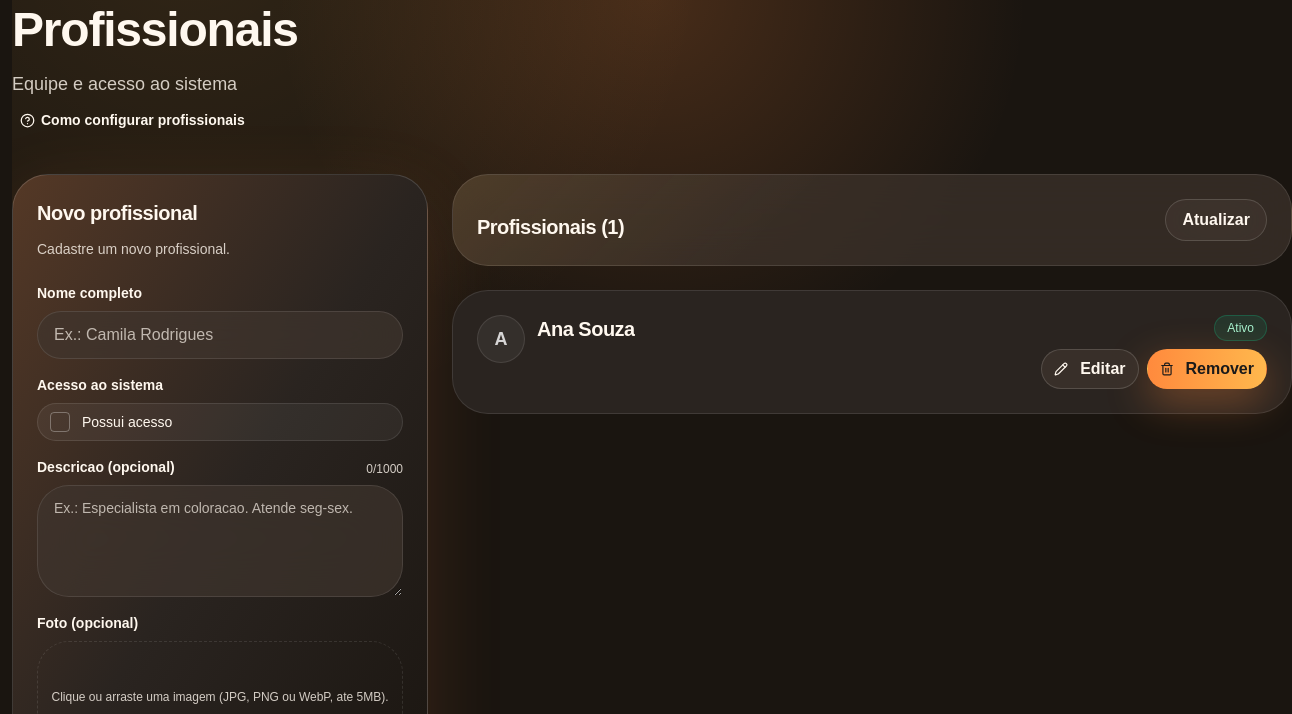
Test: ProfessionalsPage › preenche o formulario inline ao iniciar edicao
Click the button "Editar" at (1090, 369), box [1041,349,1138,389]
(page scrolled)
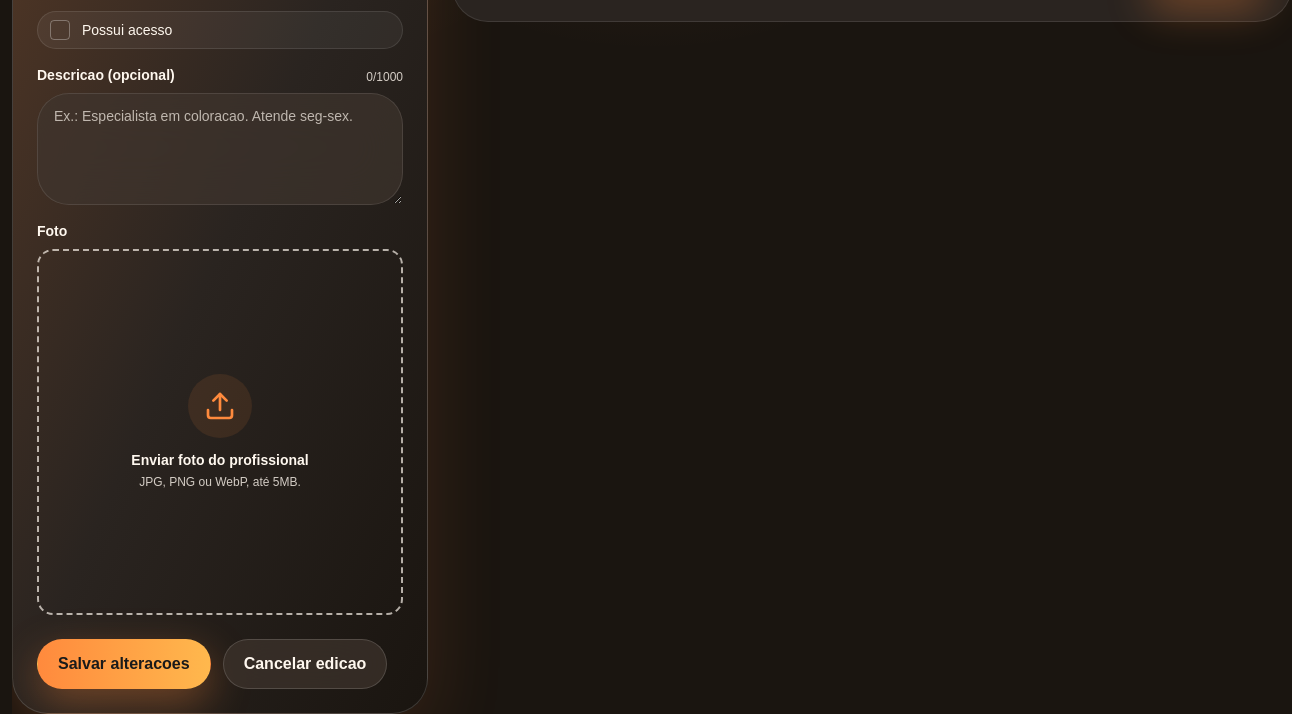
Result: the button "Cancelar edicao" is shown at [223,639,387,689]
